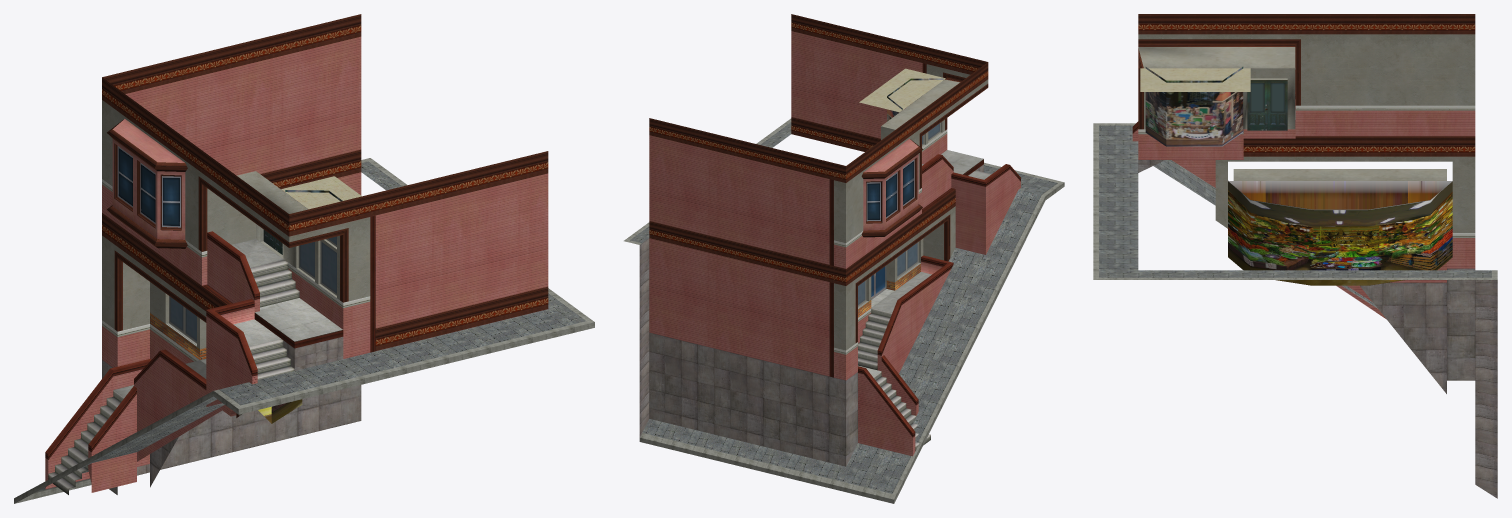
File: MhouseB_Base_35R.fbx
3 views of the same model, side by side, from view 1: azimuth 30°, elevation 25°; view 2: azimuth 150°, elevation 25°; view 3: azimuth 270°, elevation 25° (orthographic). The views are drawn at different scales.
Visible parts, largest first — view 1: ct2_01_n1_ks2_MhouseBaseB35R_000; view 2: ct2_01_n1_ks2_MhouseBaseB35R_000; view 3: ct2_01_n1_ks2_MhouseBaseB35R_000.
Boxes of the visible parts, x1=… form: ct2_01_n1_ks2_MhouseBaseB35R_000: x1=14, y1=14, x2=594, y2=503; ct2_01_n1_ks2_MhouseBaseB35R_000: x1=624, y1=14, x2=1064, y2=503; ct2_01_n1_ks2_MhouseBaseB35R_000: x1=1093, y1=14, x2=1497, y2=498.
Size of the model in its own units: 1815 by 2031 by 1980.
